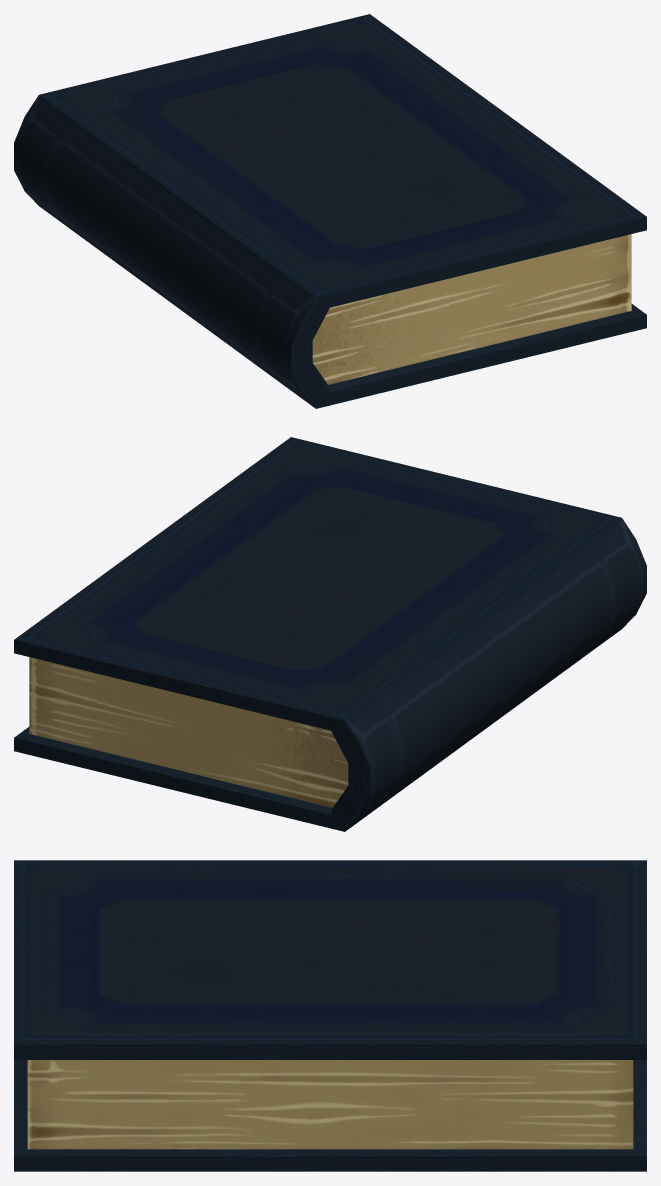
File: fp-book-5-lod1.glb
3 views of the same model, one above another, from view 1: azimuth 30°, elevation 25°; view 2: azimuth 150°, elevation 25°; view 3: azimuth 270°, elevation 25° (orthographic). The views are drawn at different scales.
Visible parts, largest first — view 1: WeaponMesh_fp-book-5_Book_5; view 2: WeaponMesh_fp-book-5_Book_5; view 3: WeaponMesh_fp-book-5_Book_5.
Part boxes in pixels (<box>): WeaponMesh_fp-book-5_Book_5: <box>14,14,646,408</box>; WeaponMesh_fp-book-5_Book_5: <box>14,437,646,831</box>; WeaponMesh_fp-book-5_Book_5: <box>14,860,646,1171</box>.
Size of the model in its own units: 0.4078 by 0.1219 by 0.55.
Materials: 1 (1 with a texture image).
